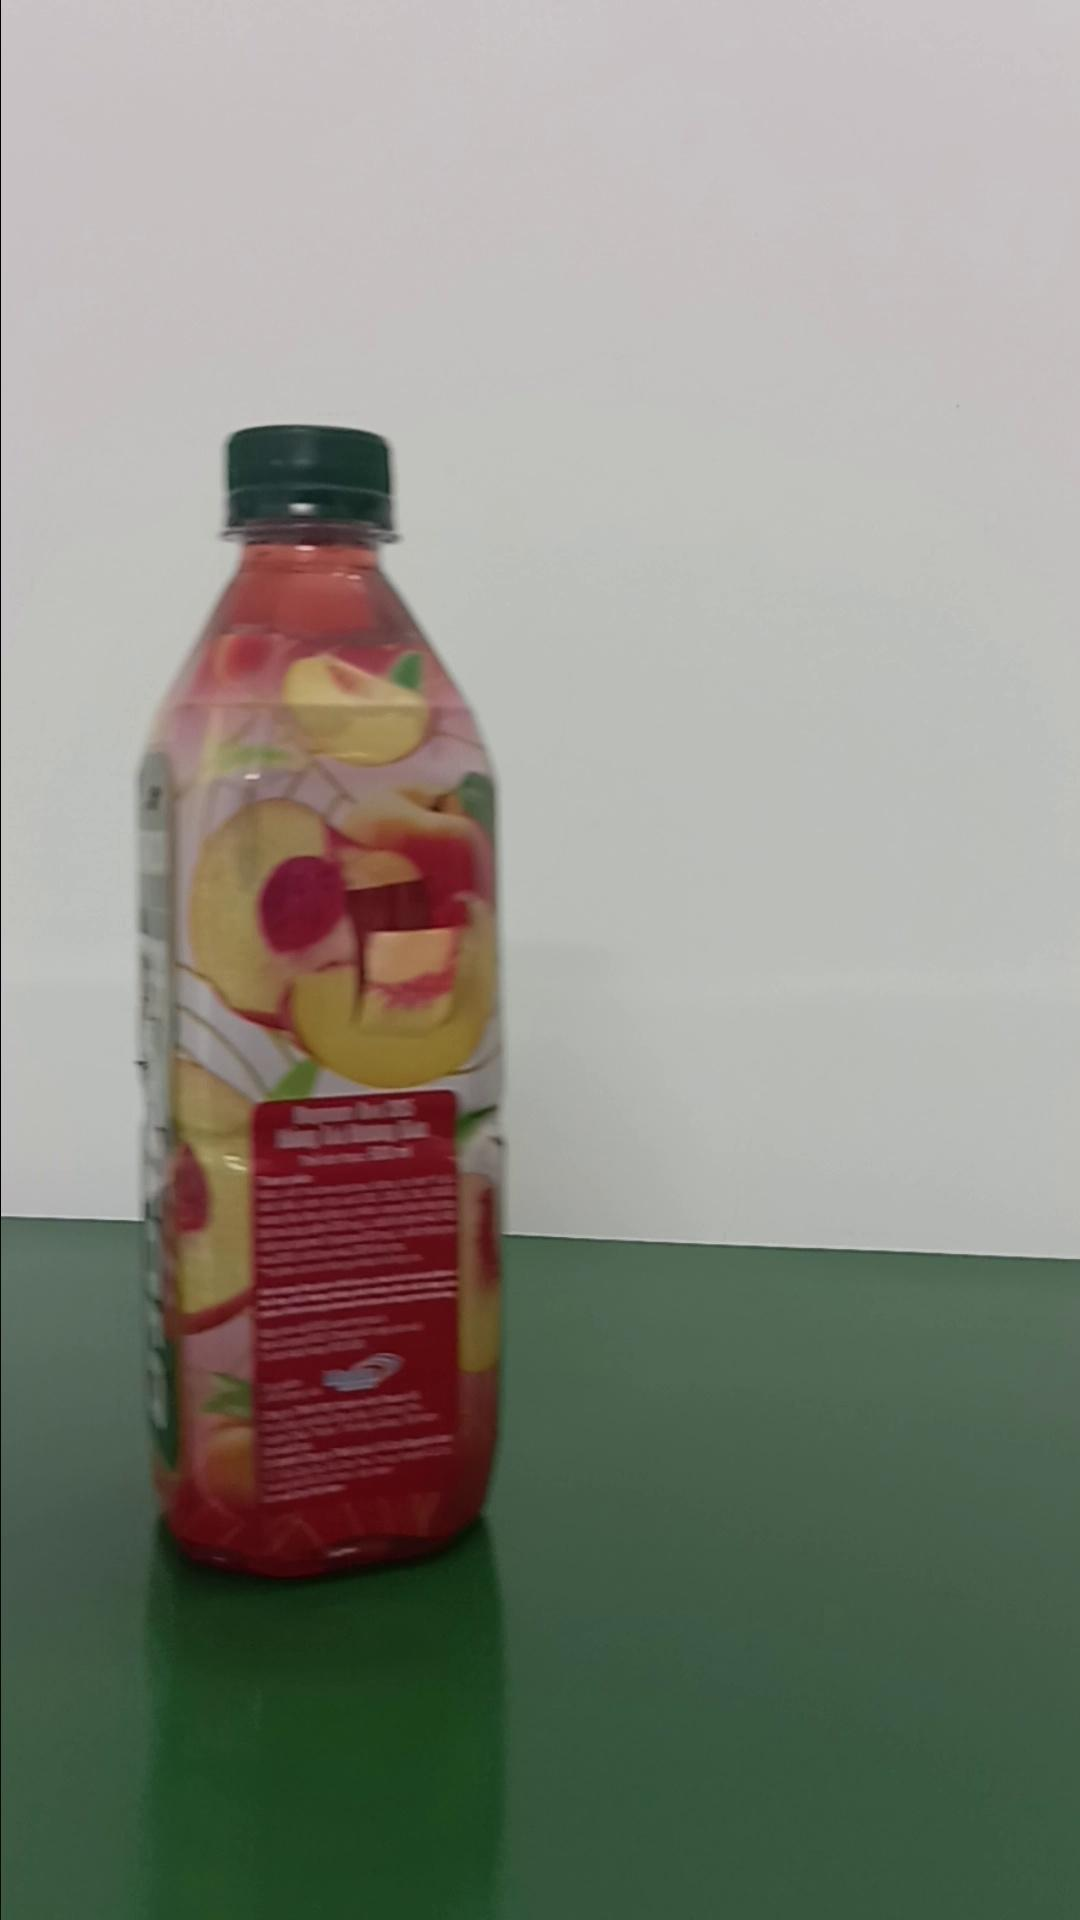loi rach va lap chai: (125, 418, 517, 1588)
